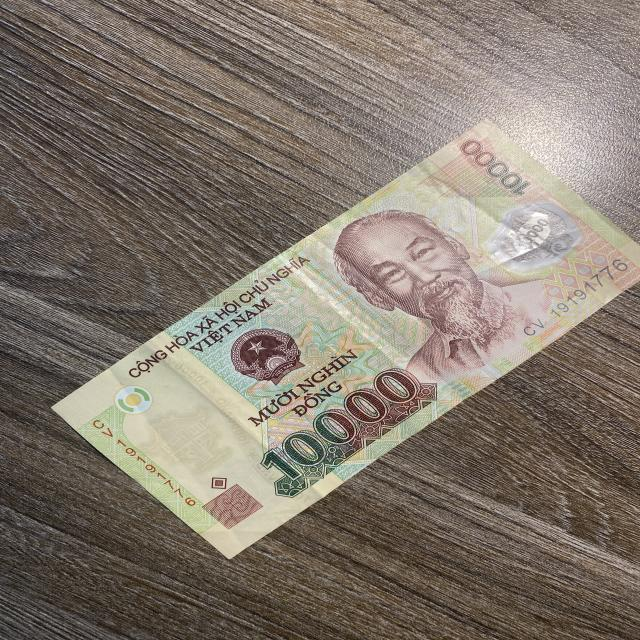10 000 VND: (48, 119, 637, 560)
